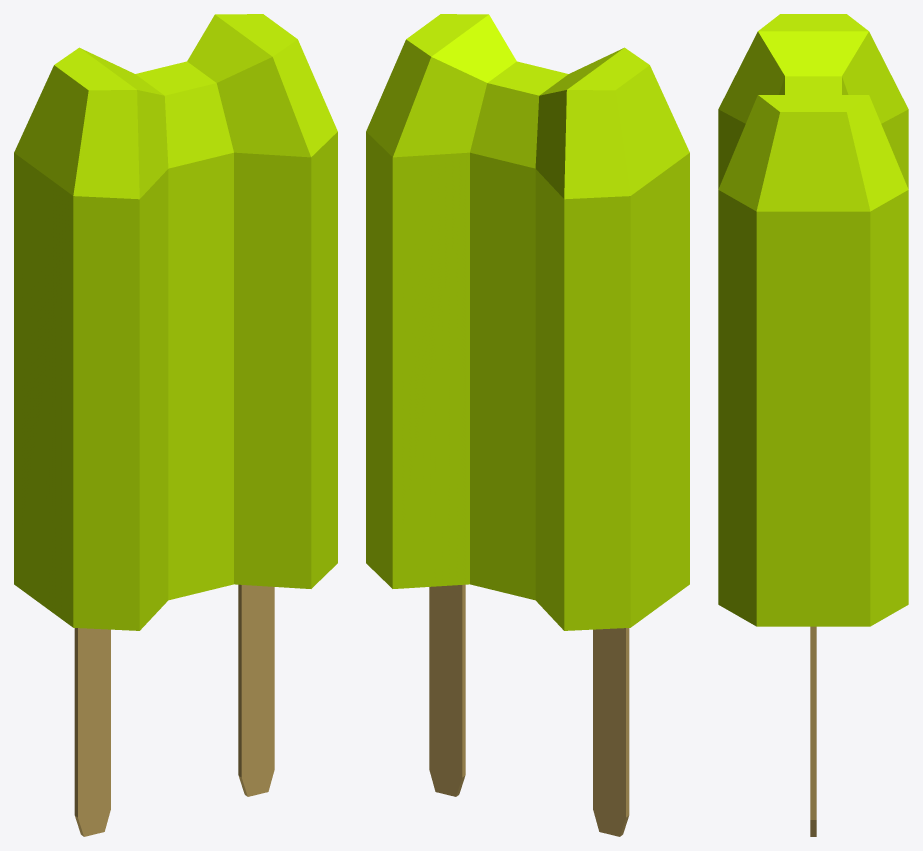
File: Lime Popsicle.fbx
3 views of the same model, side by side, from view 1: azimuth 30°, elevation 25°; view 2: azimuth 150°, elevation 25°; view 3: azimuth 270°, elevation 25° (orthographic). The views are drawn at different scales.
Parts seen in each view (by area): view 1: Lime Popsicle; view 2: Lime Popsicle; view 3: Lime Popsicle.
Part boxes in pixels (x1,y1,x2,y2): Lime Popsicle: (14,14,337,836); Lime Popsicle: (366,14,689,836); Lime Popsicle: (718,14,908,836).
Bounding box in the file's own units: 4.11 × 11.3 × 2.67.
